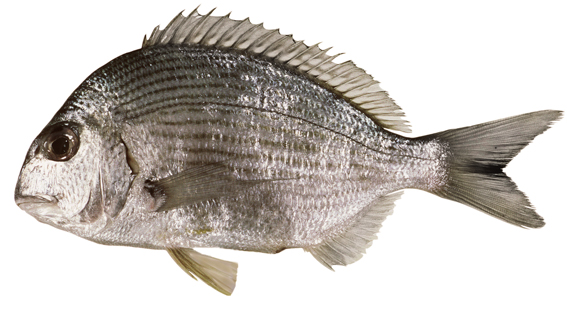fish: (14, 4, 566, 297)
